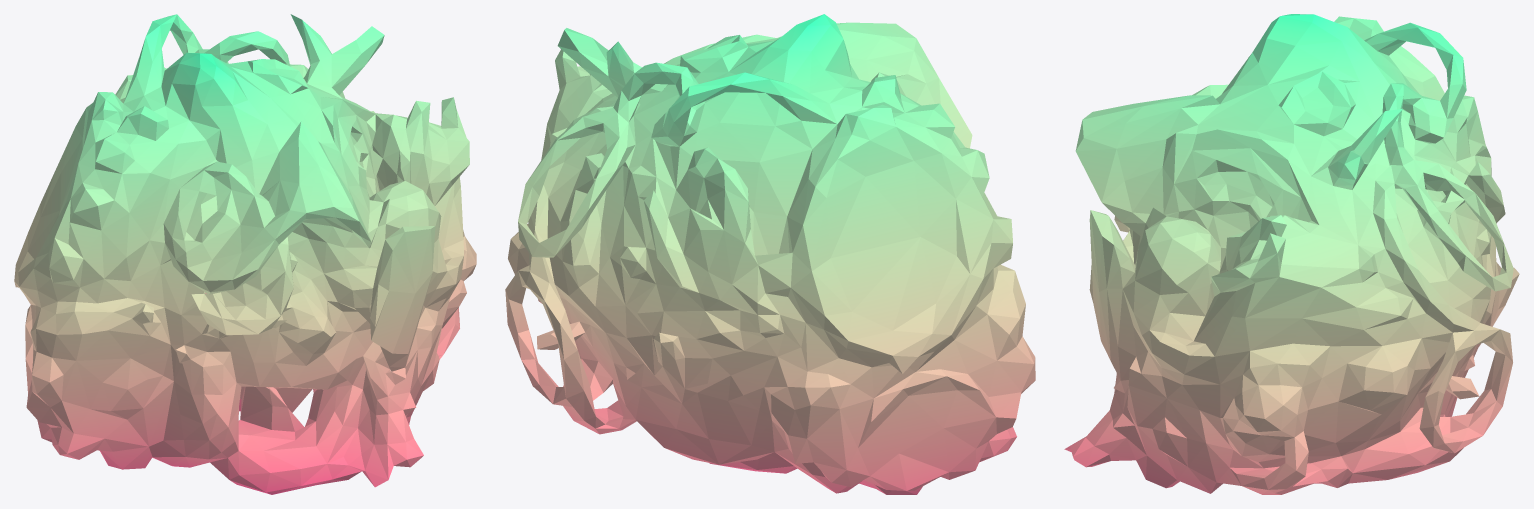
The model's file is 154_cyb_laser_gradient_fish_scales_2910_2026_10_03_ac3bed.glb.
3 renders of one model, left to right at view 1: azimuth 30°, elevation 25°; view 2: azimuth 150°, elevation 25°; view 3: azimuth 270°, elevation 25°, orthographic. The views are drawn at different scales.
Parts seen in each view (by area): view 1: geometry_0; view 2: geometry_0; view 3: geometry_0.
Boxes of the visible parts, x1,y1,x2,y2 form: geometry_0: (14, 14, 476, 494); geometry_0: (505, 14, 1035, 494); geometry_0: (1064, 14, 1519, 494).
Size of the model in its own units: 0.9973 by 0.8391 by 0.8207.
